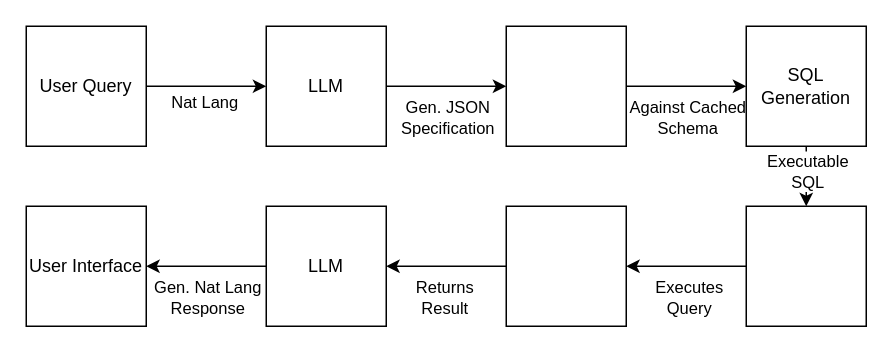
This 893x353 diagram has some shape labels left out. The shapes that lost their labels are listed below. From the top down, each one's centre as x and y in pixels, then its label:
the point at 565,85: JSON Validation
the point at 565,265: Database
the point at 805,265: N8N Webhook
